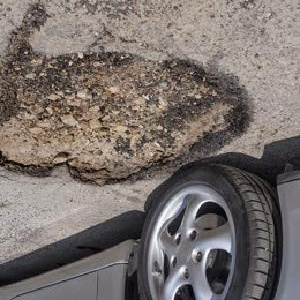pothole: (0, 47, 254, 188)
